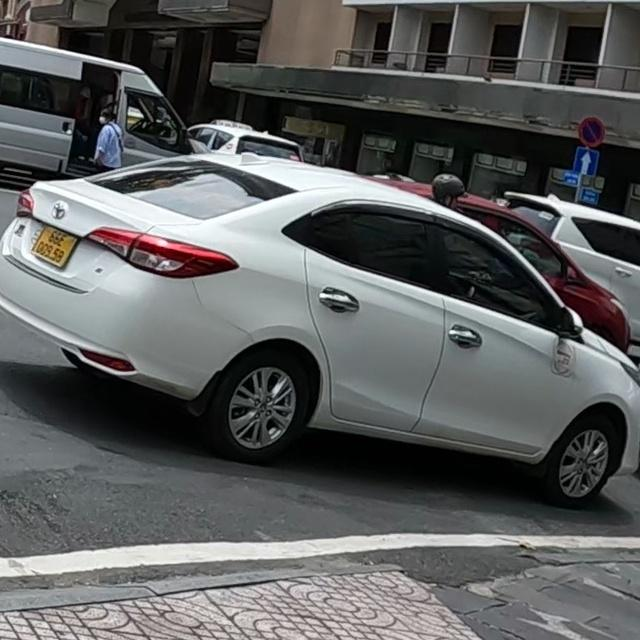license-plate: (29, 226, 78, 269)
